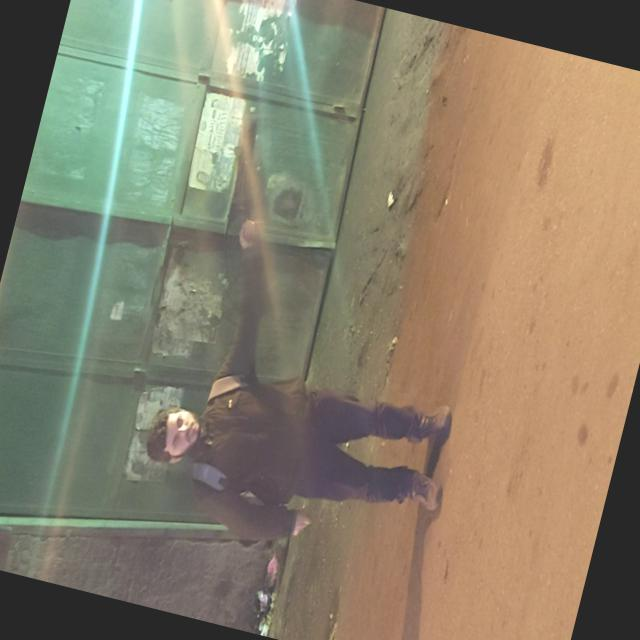long weapon: (190, 93, 298, 304)
